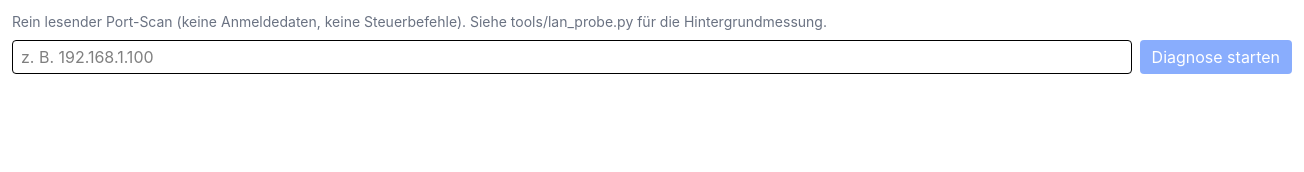
Test: NetworkDiagnostics › shows a friendly error outside the Tauri runtime
This screenshot has width=1304, height=172.
Type "192.168.1.100" into the field named "Host oder IP". click: [572, 57]
box: x1=12 y1=40 x2=1132 y2=74
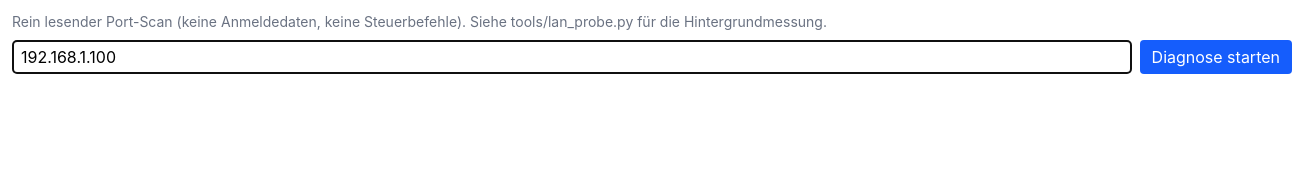
Click the button "Diagnose starten". click: [1216, 57]
box: x1=1140 y1=40 x2=1292 y2=74
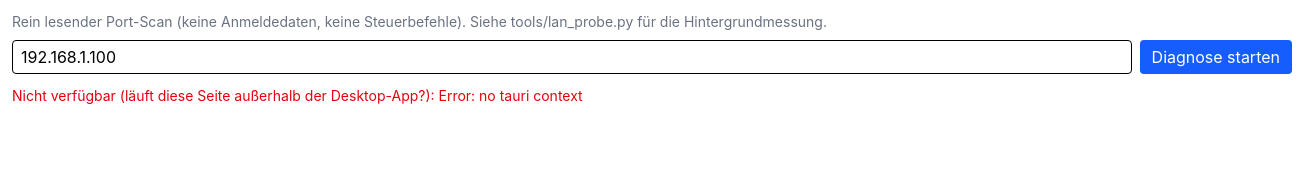
Expected: the text "Nicht verfügbar" is shown, x1=12 y1=87 x2=583 y2=104
